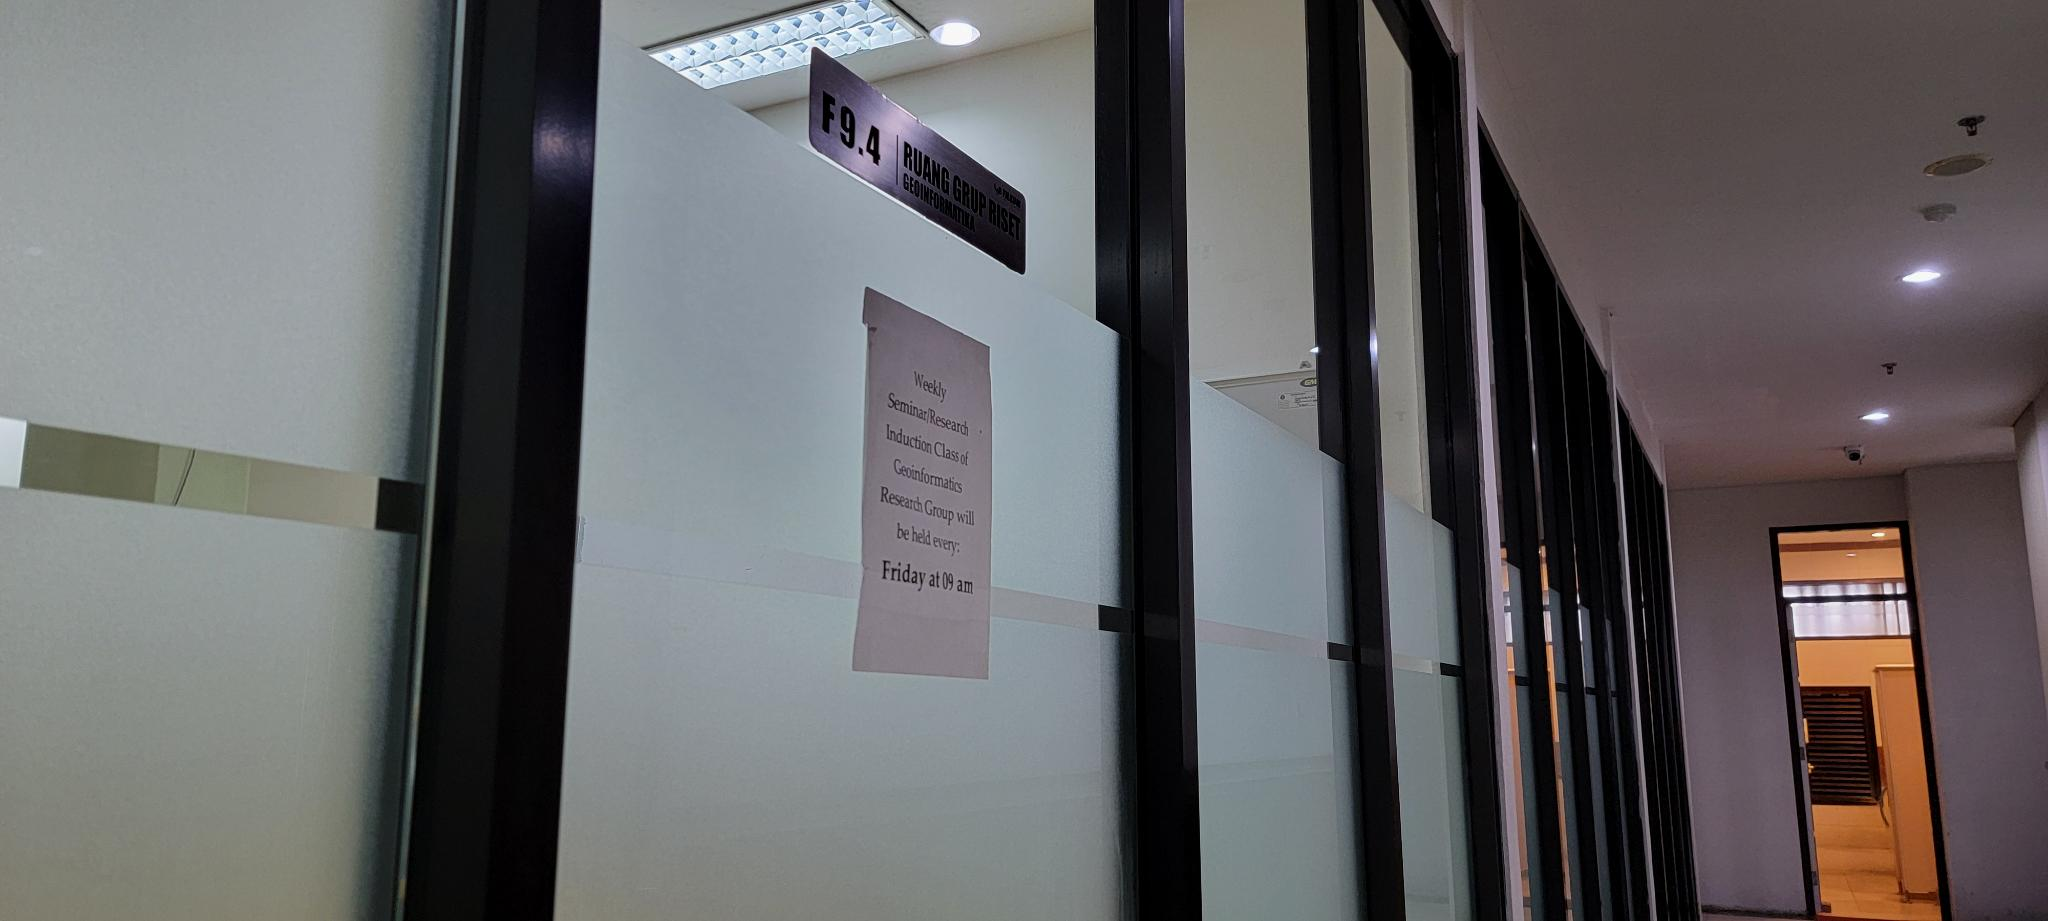plate: (810, 43, 1027, 277)
